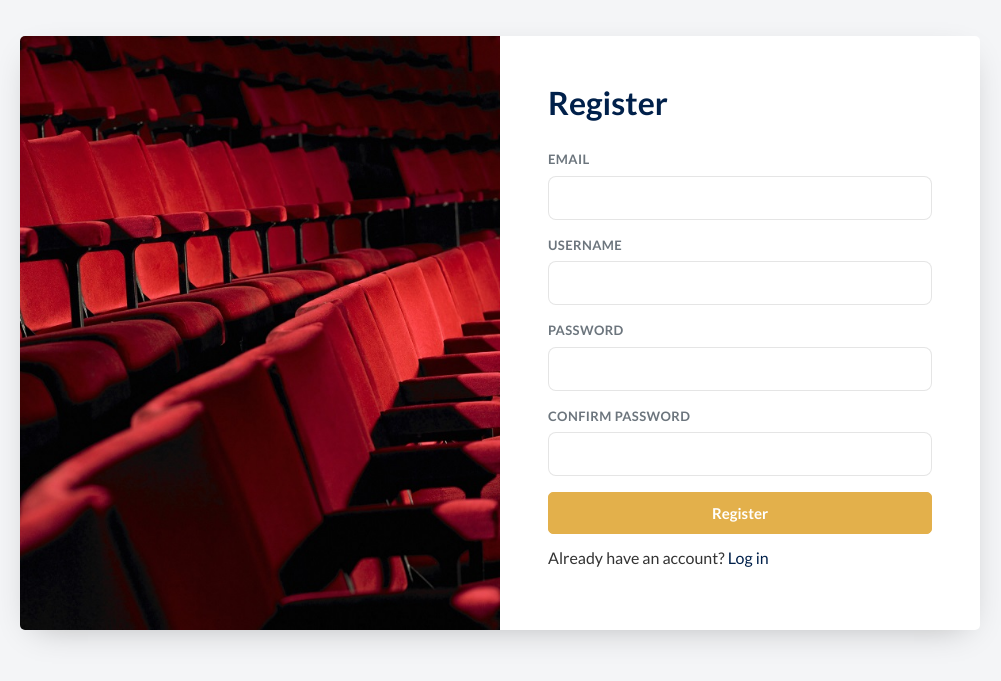
Test: RegisterPage › rejects a password missing complexity requirements
The image size is (1001, 681).
In the field labelled "Email": point(740, 198) [548, 176, 932, 220], type "newuser@example.com"
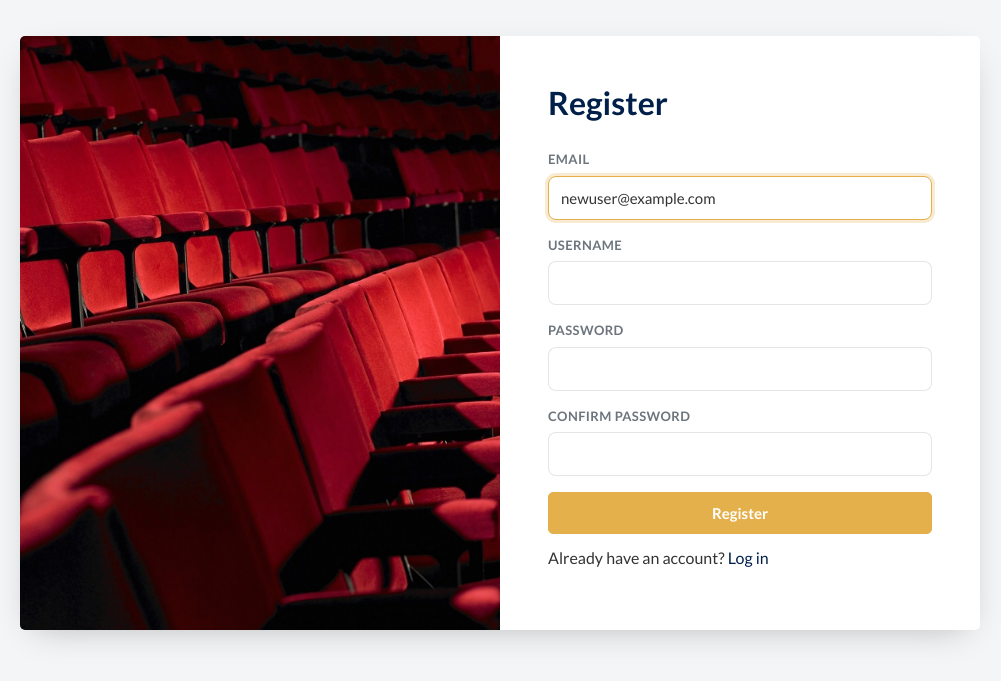
In the field labelled "Username": point(740, 283) [548, 261, 932, 305], type "newuser"
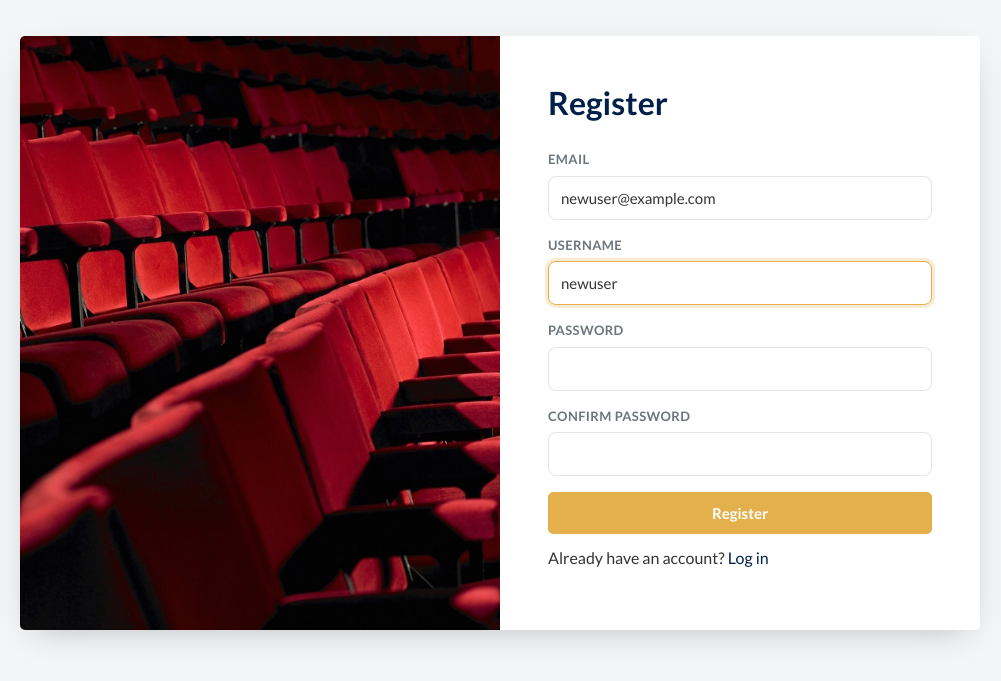
In the password field labelled "Password": point(740, 369) [548, 347, 932, 391], type "alllowercase1!"
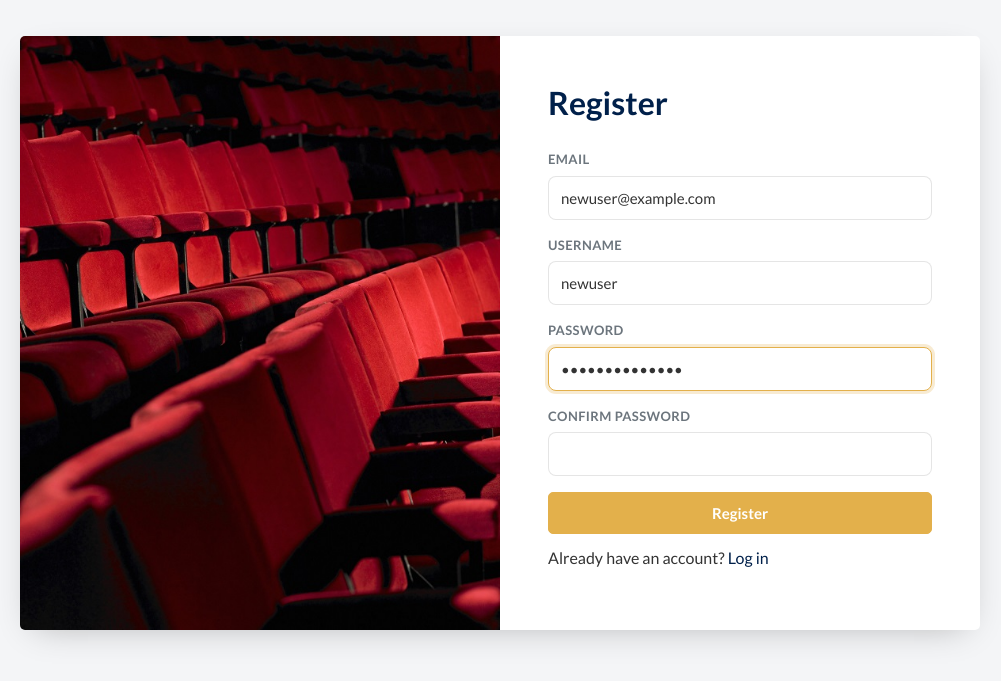
In the password field labelled "Confirm password": point(740, 454) [548, 432, 932, 476], type "alllowercase1!"
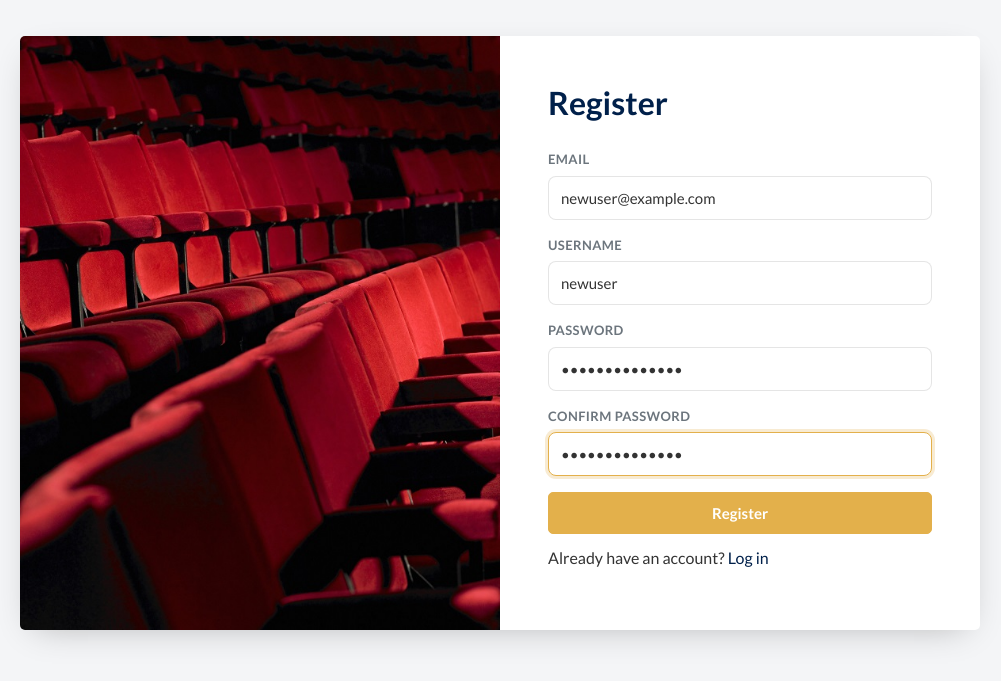
Click the button "Register": point(740, 513) [548, 492, 932, 534]
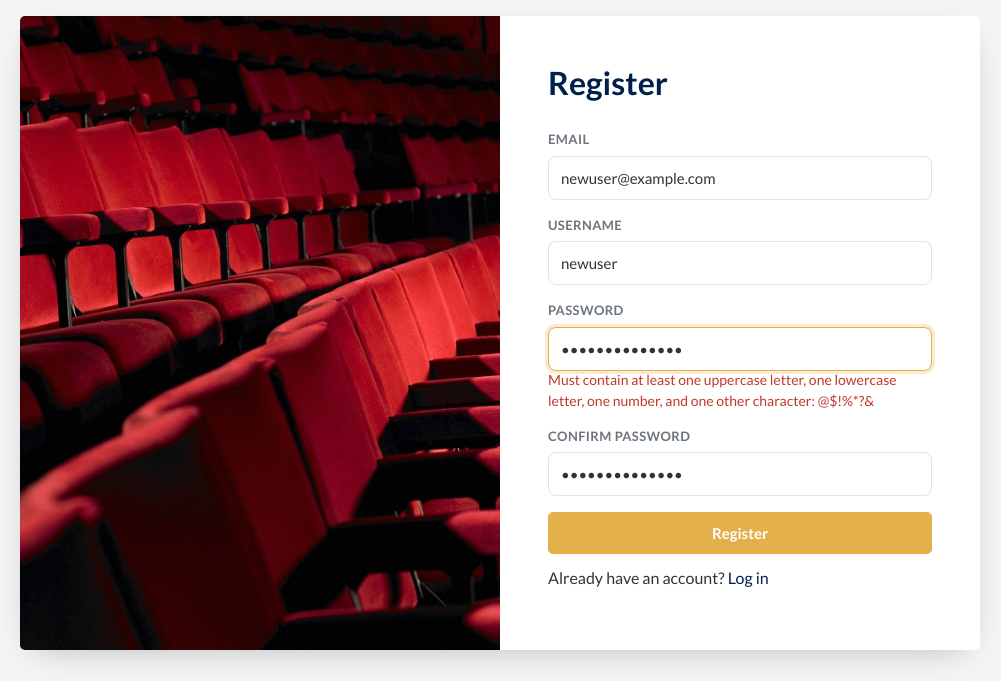
expect the text "Must contain at least one uppercase letter" is shown: met, box [548, 371, 897, 409]
